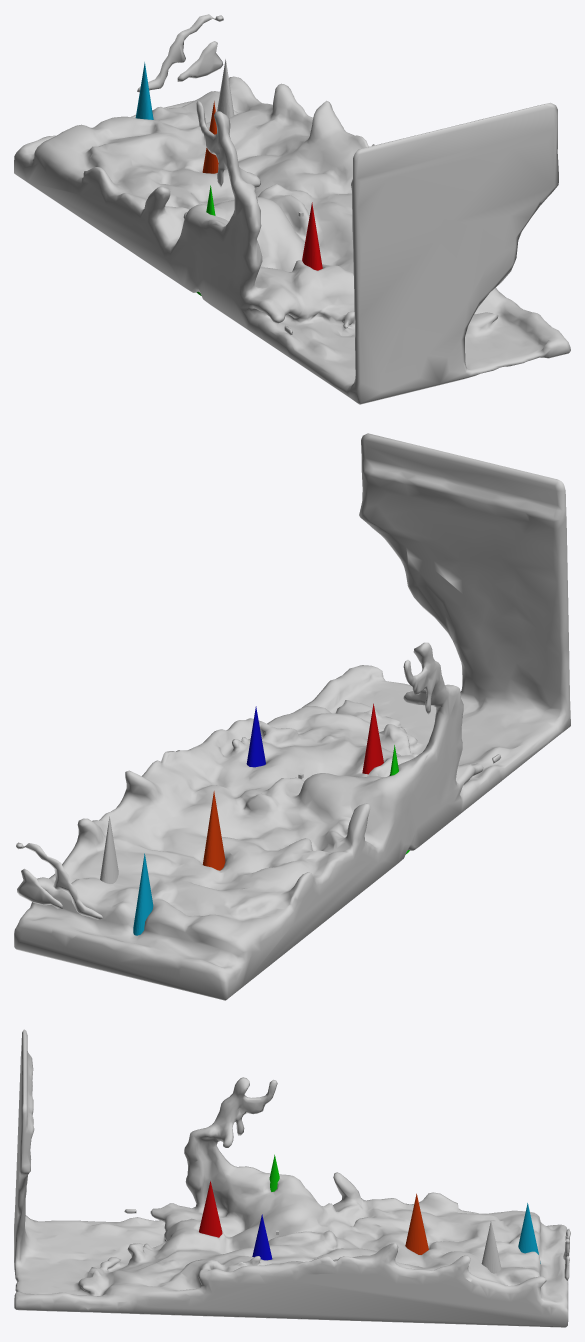
3 renders of one model, top to bottom at view 1: azimuth 30°, elevation 25°; view 2: azimuth 150°, elevation 25°; view 3: azimuth 270°, elevation 25°, orthographic. The views are drawn at different scales.
Visible parts, largest first — view 1: Liquid_Domain, 円錐.001, 円錐.005, 円錐; view 2: Liquid_Domain, 円錐.004, 円錐.005, 円錐.001, 円錐; view 3: Liquid_Domain, 円錐.004, 円錐.001, 円錐, 円錐.005, 円錐.002.
Part boxes in pixels (box(x1,y1,x2,y2)): Liquid_Domain: box(14, 14, 570, 404); 円錐.001: box(302, 202, 322, 270); 円錐.005: box(135, 62, 153, 119); 円錐: box(217, 59, 234, 117); Liquid_Domain: box(14, 433, 570, 1000); 円錐.004: box(202, 791, 225, 870); 円錐.005: box(133, 853, 153, 935); 円錐.001: box(362, 703, 383, 774); 円錐: box(100, 816, 118, 883); Liquid_Domain: box(14, 1029, 570, 1327); 円錐.004: box(405, 1193, 428, 1254); 円錐.001: box(199, 1181, 222, 1237); 円錐: box(481, 1221, 501, 1273); 円錐.005: box(518, 1203, 540, 1263); 円錐.002: box(252, 1214, 272, 1260).
Size of the model in its own units: 129 by 158 by 363.
